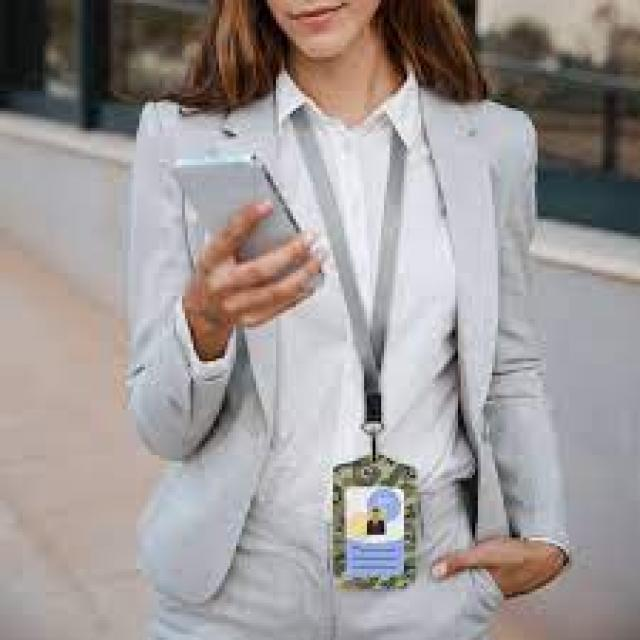id_card: (288, 123, 434, 592)
